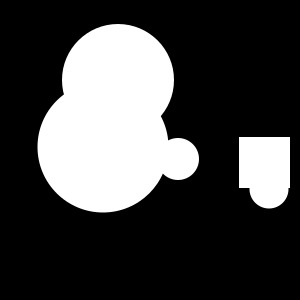circle: (239, 137, 290, 188)
rectangle: (38, 82, 168, 212), (62, 24, 174, 136), (157, 138, 199, 180), (249, 169, 288, 209)
